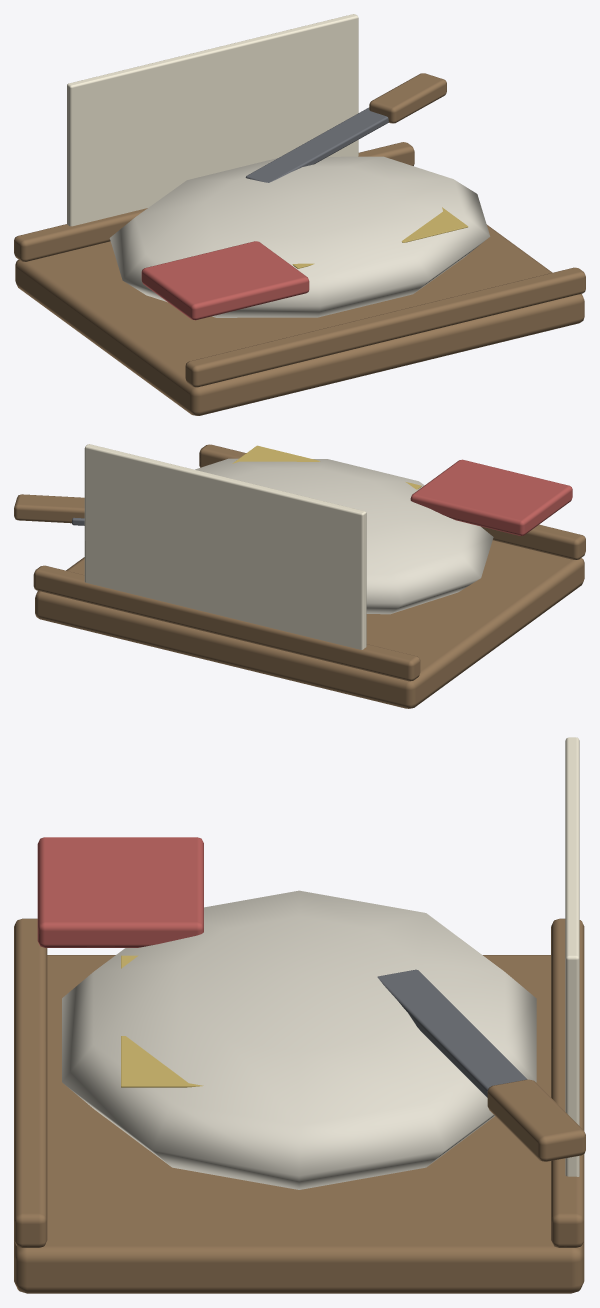
The model's file is gold-leaf-cushion.glb.
3 renders of one model, top to bottom at view 1: azimuth 30°, elevation 25°; view 2: azimuth 150°, elevation 25°; view 3: azimuth 270°, elevation 25°, orthographic. The views are drawn at different scales.
Parts seen in each view (by area): view 1: gold-leaf-cushion; view 2: gold-leaf-cushion; view 3: gold-leaf-cushion.
Boxes of the visible parts, x1,y1,x2,y2 form: gold-leaf-cushion: [14, 14, 585, 415]; gold-leaf-cushion: [14, 444, 585, 708]; gold-leaf-cushion: [14, 737, 585, 1293].
Size of the model in its own units: 0.3208 by 0.14 by 0.2407.
